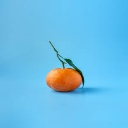orange: (45, 52, 85, 93)
